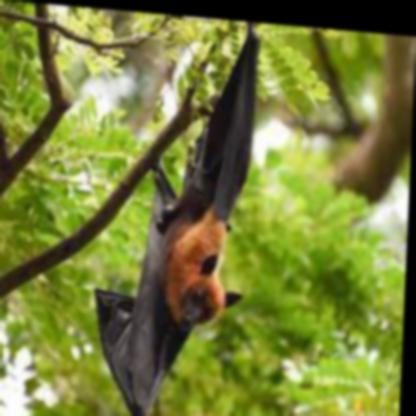Bat: (90, 7, 258, 415)
